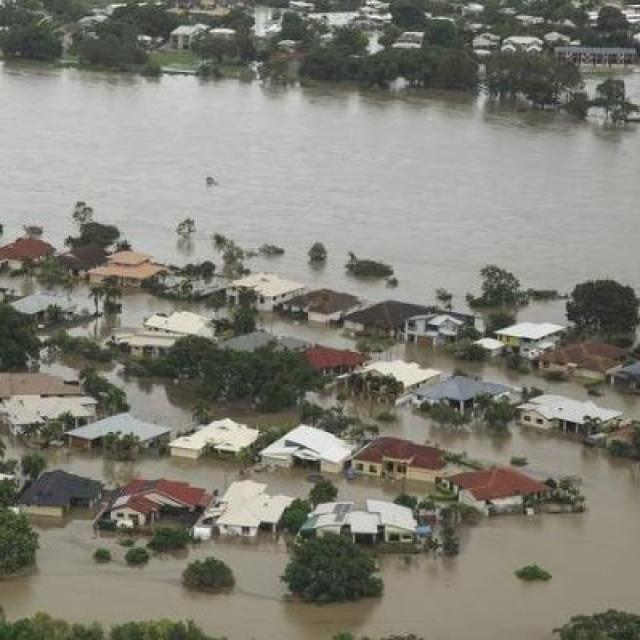flooded_areas: (0, 59, 635, 638)
